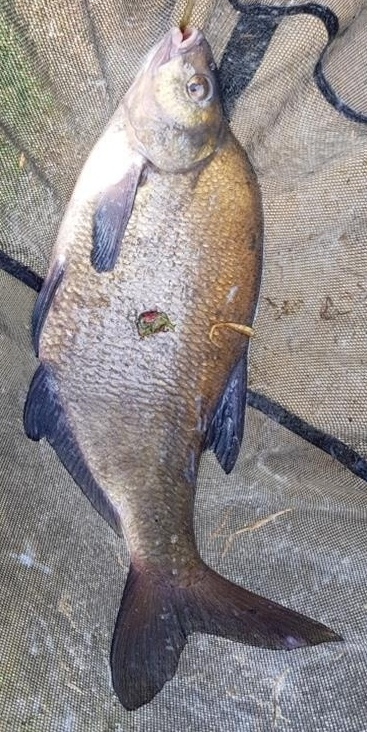Abramis brama: (20, 20, 347, 712)
